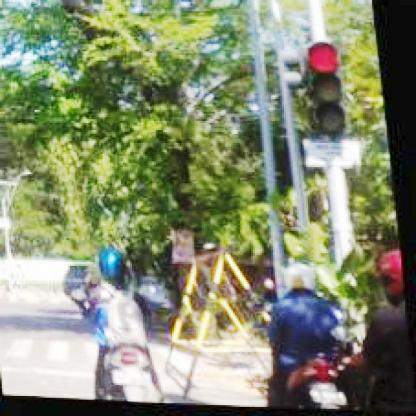Traffic Light -Red-: (314, 44, 356, 135)
